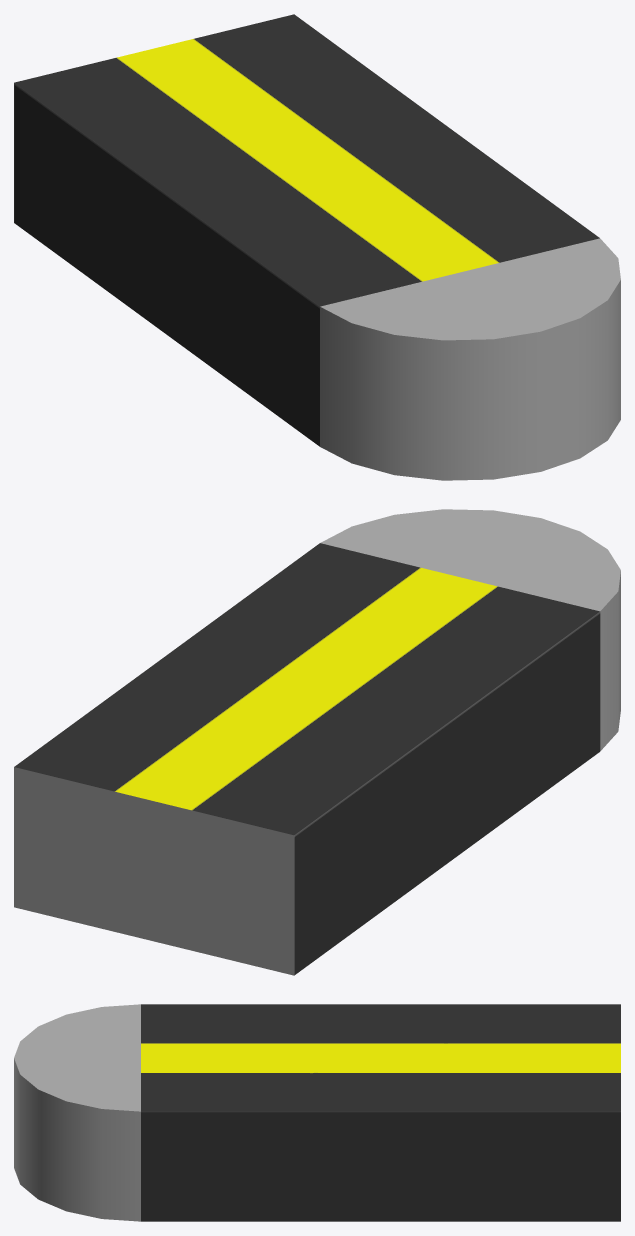
The model's file is enemy_eraser_06.glb.
The picture shows the model from 3 angles, top to bottom: view 1: azimuth 30°, elevation 25°; view 2: azimuth 150°, elevation 25°; view 3: azimuth 270°, elevation 25°; orthographic projection. The views are drawn at different scales.
Parts seen in each view (by area): view 1: obj1; view 2: obj1; view 3: obj1.
Part boxes in pixels (x1,y1,x2,y2): obj1: (14, 14, 620, 480); obj1: (14, 509, 620, 975); obj1: (14, 1004, 620, 1221).
Size of the model in its own units: 2.3 by 1.1 by 5.5.
Materials: 1 (1 with a texture image).
